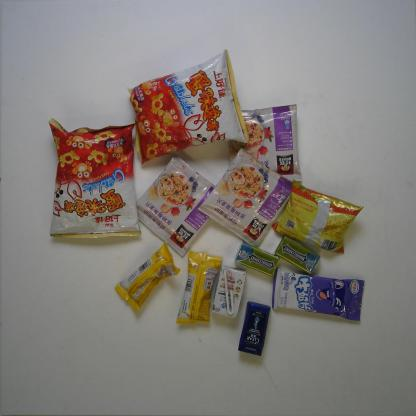Candy: (269, 266, 366, 324)
Chocolate: (113, 240, 182, 314), (174, 249, 224, 327)
Gum: (272, 234, 322, 275), (233, 239, 281, 278)
Instant Drink: (195, 146, 294, 249), (136, 153, 218, 257), (225, 102, 304, 184)
Milk: (210, 263, 248, 320)
Personal Hygiene: (236, 300, 272, 359)
Puffed Food: (124, 46, 252, 167), (46, 115, 142, 240)
Seasoner: (270, 178, 365, 256)
